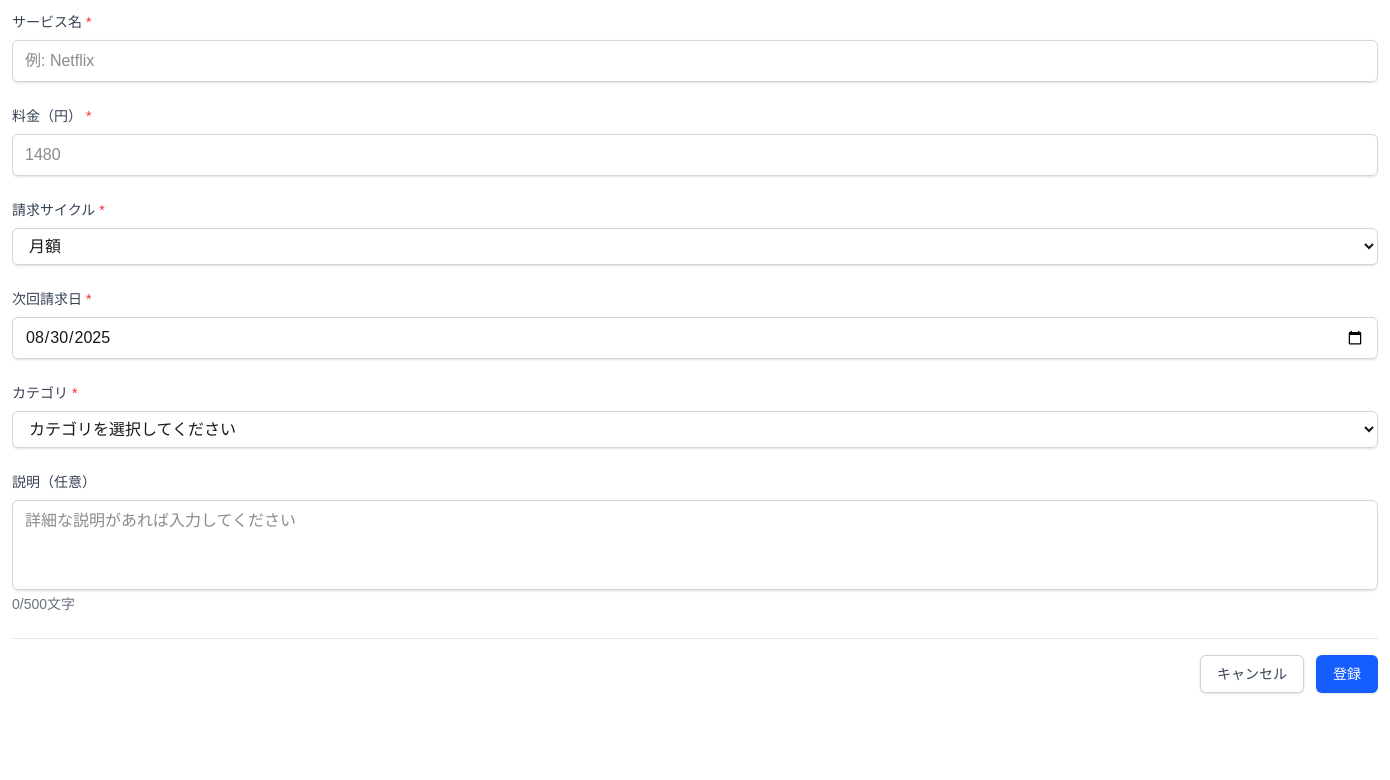
SubscriptionForm › バリデーション機能 › サービス名が空の場合エラーが表示されること
Click the field labelled "サービス名 *" at coordinates (695, 61), box [12,40,1378,82]
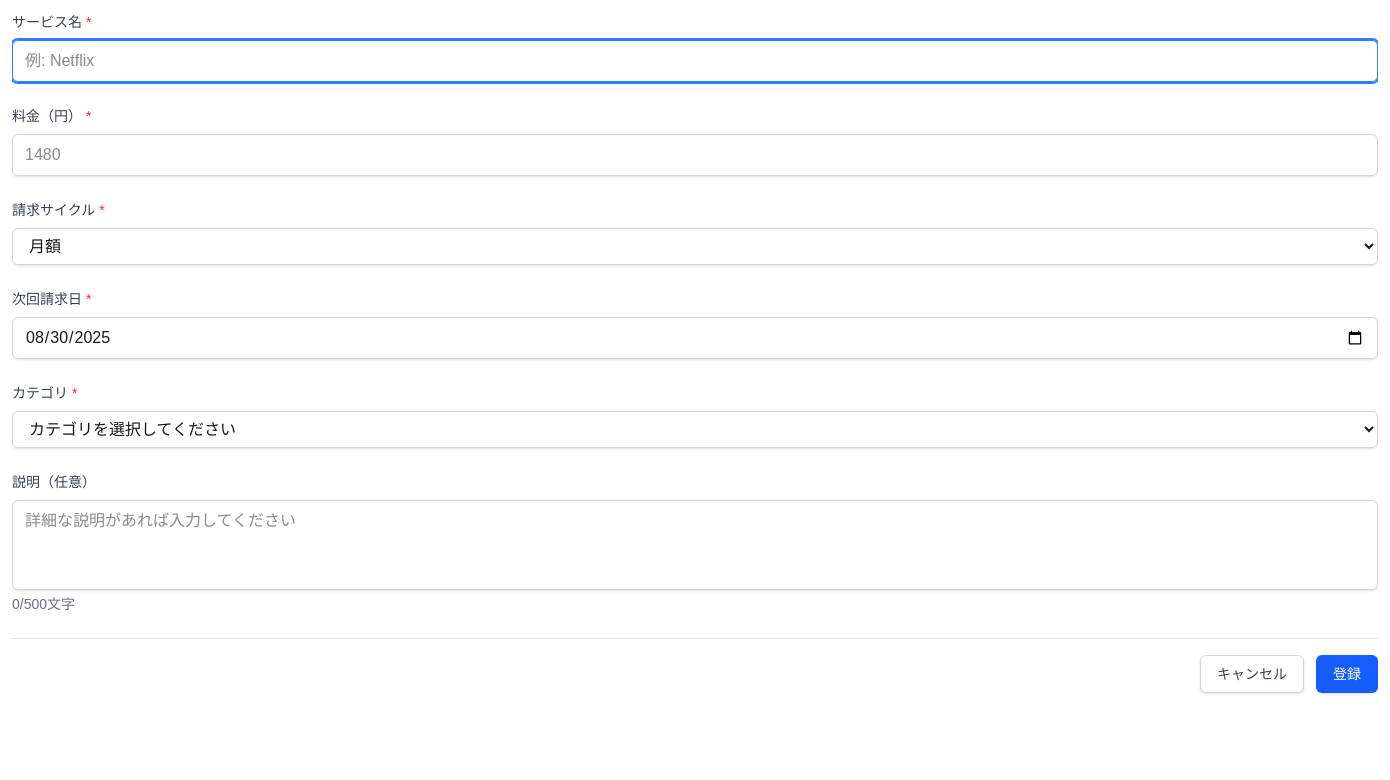
Press Tab
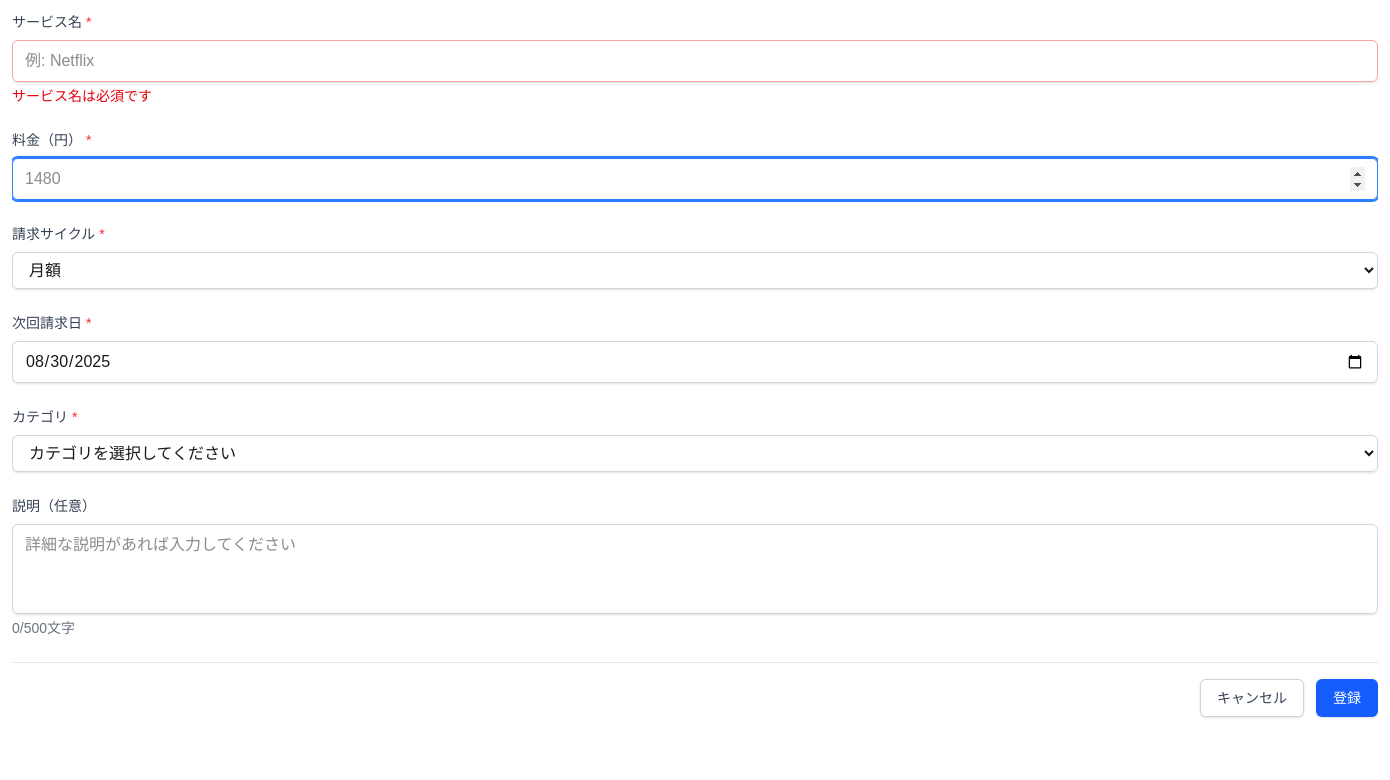
Check: the text "サービス名は必須です" is shown, box [12,88,152,104]
